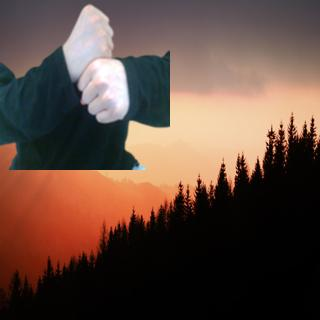CAREFUL: (61, 1, 131, 128)
